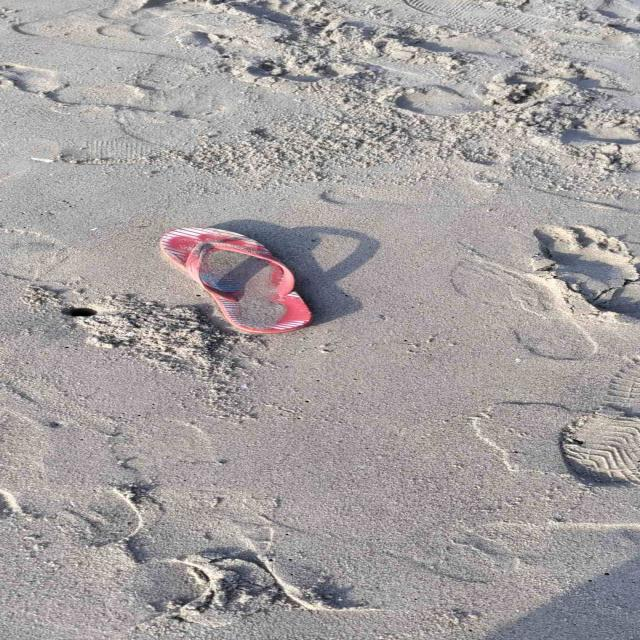other: (158, 228, 311, 334)
